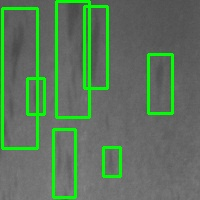inclusion: (2, 8, 37, 148), (56, 1, 89, 117), (84, 6, 107, 88), (53, 129, 75, 197), (148, 54, 172, 113), (27, 78, 44, 114), (103, 147, 120, 176)
